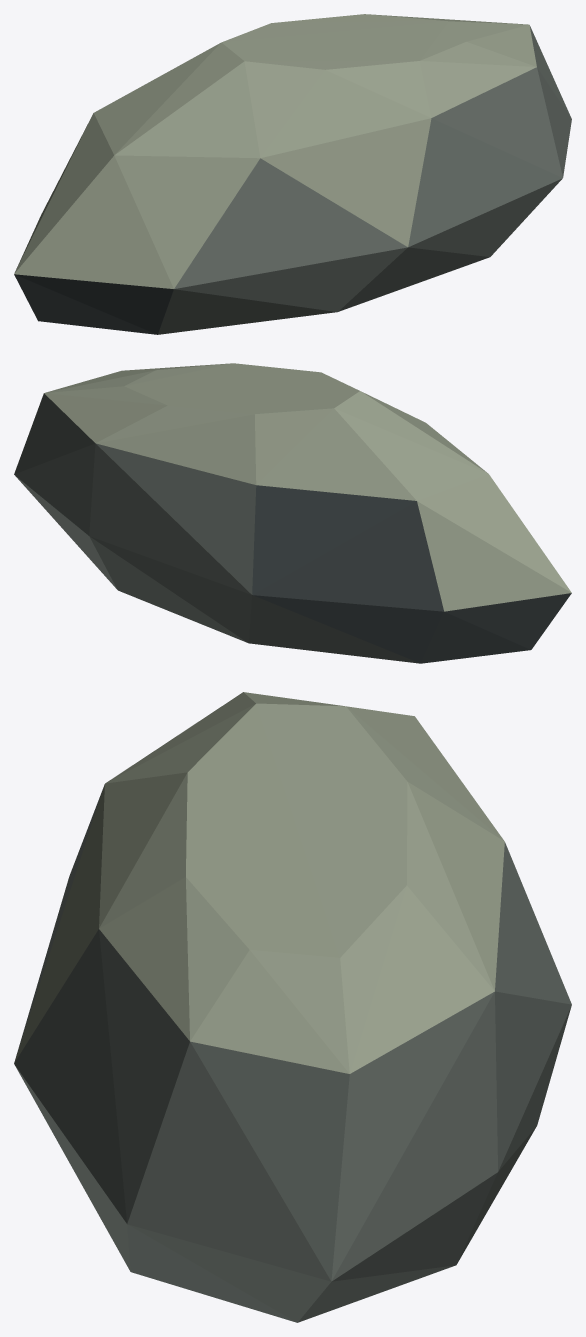
The model's file is TW_ROCK_LOW_WEDGE_B_LOD0.glb.
3 views of the same model, one above another, from view 1: azimuth 30°, elevation 25°; view 2: azimuth 150°, elevation 25°; view 3: azimuth 270°, elevation 25° (orthographic). The views are drawn at different scales.
Parts seen in each view (by area): view 1: TW_ROCK_LOW_WEDGE_B_LOD0; view 2: TW_ROCK_LOW_WEDGE_B_LOD0; view 3: TW_ROCK_LOW_WEDGE_B_LOD0.
Part boxes in pixels (x1=…): TW_ROCK_LOW_WEDGE_B_LOD0: x1=14, y1=14, x2=571, y2=334; TW_ROCK_LOW_WEDGE_B_LOD0: x1=14, y1=363, x2=571, y2=663; TW_ROCK_LOW_WEDGE_B_LOD0: x1=14, y1=692, x2=571, y2=1322.
Size of the model in its own units: 1.61 by 0.5906 by 0.769.
1 material, 1 textured.
